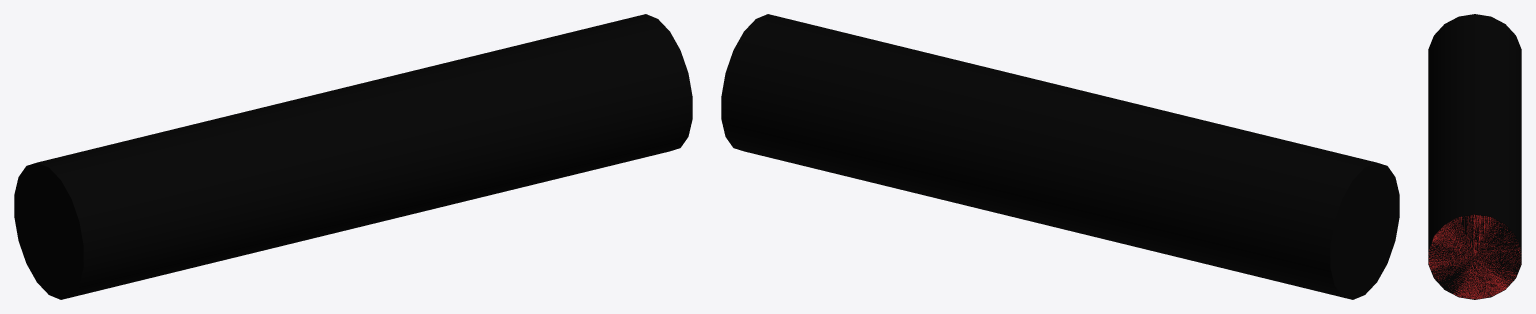
The model's file is battery.fbx.
The picture shows the model from 3 angles, left to right: view 1: azimuth 30°, elevation 25°; view 2: azimuth 150°, elevation 25°; view 3: azimuth 270°, elevation 25°; orthographic projection. The views are drawn at different scales.
Parts seen in each view (by area): view 1: sell; view 2: sell; view 3: sell, bat.
Boxes of the visible parts, box(x1,y1,x2,y2) form: sell: box(14, 14, 692, 299); sell: box(721, 14, 1399, 299); sell: box(1428, 14, 1521, 299); bat: box(1428, 214, 1521, 299).
Size of the model in its own units: 20 by 4 by 3.94.
